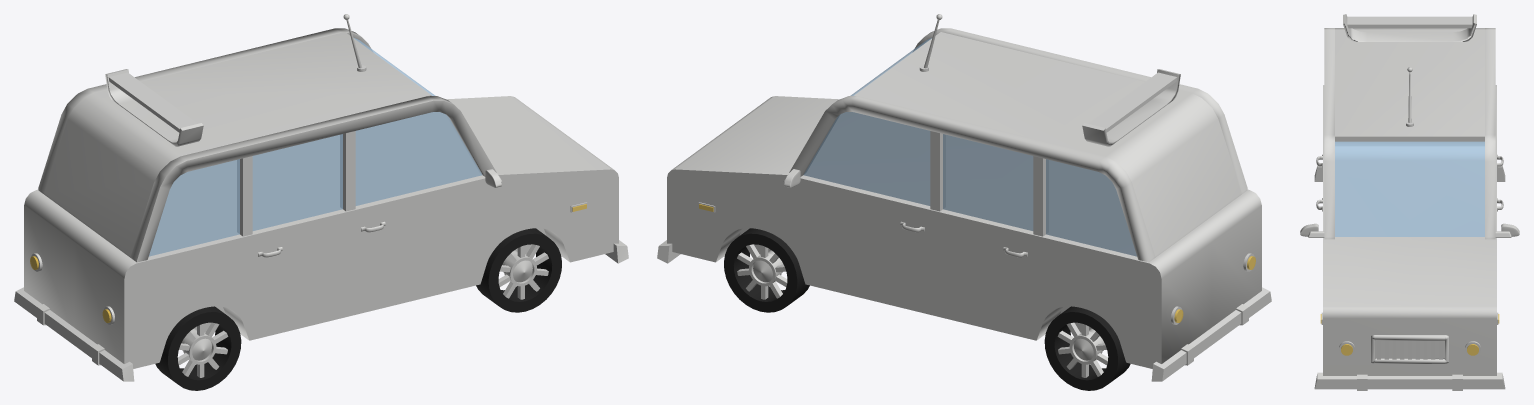
Rendered from suv.glb.
3 renders of one model, left to right at view 1: azimuth 30°, elevation 25°; view 2: azimuth 150°, elevation 25°; view 3: azimuth 270°, elevation 25°, orthographic. The views are drawn at different scales.
Visible parts, largest first — view 1: SUV, Roof, Glass, Frame (×4), Tire (×2), BackBumper, Spline, Cube, Rim (×2); view 2: SUV, Roof, Glass, Frame (×4), Tire (×2), BackBumper, Spline, Cube, Rim (×2); view 3: SUV, Roof, Glass, Frame (×3), FrontBumper, Cube, Spline, Round (×2), BackBumper.
Boxes of the visible parts, x1=… form: SUV: x1=24, y1=96, x2=618, y2=368; Roof: x1=44, y1=32, x2=431, y2=257; Glass: x1=149, y1=38, x2=482, y2=256; Frame (×4): x1=38, y1=28, x2=496, y2=262; Tire (×2): x1=155, y1=228, x2=561, y2=390; BackBumper: x1=14, y1=287, x2=134, y2=381; Spline: x1=105, y1=69, x2=203, y2=146; Cube: x1=108, y1=72, x2=197, y2=132; Rim (×2): x1=183, y1=253, x2=536, y2=364; SUV: x1=667, y1=96, x2=1261, y2=368; Roof: x1=854, y1=32, x2=1241, y2=257; Glass: x1=803, y1=38, x2=1136, y2=256; Frame (×4): x1=789, y1=28, x2=1247, y2=262; Tire (×2): x1=724, y1=228, x2=1130, y2=390; BackBumper: x1=1151, y1=287, x2=1271, y2=381; Spline: x1=1082, y1=69, x2=1180, y2=146; Cube: x1=1088, y1=72, x2=1177, y2=132; Rim (×2): x1=749, y1=253, x2=1102, y2=364; SUV: x1=1323, y1=85, x2=1496, y2=375; Roof: x1=1335, y1=28, x2=1484, y2=145; Glass: x1=1335, y1=141, x2=1484, y2=236; Frame (×3): x1=1324, y1=28, x2=1495, y2=363; FrontBumper: x1=1314, y1=372, x2=1505, y2=389; Cube: x1=1347, y1=16, x2=1472, y2=28; Spline: x1=1343, y1=14, x2=1476, y2=41; Round (×2): x1=1339, y1=341, x2=1480, y2=356; BackBumper: x1=1314, y1=165, x2=1505, y2=181.
Bounding box in the file's own units: 4.75 × 2.61 × 2.05.
